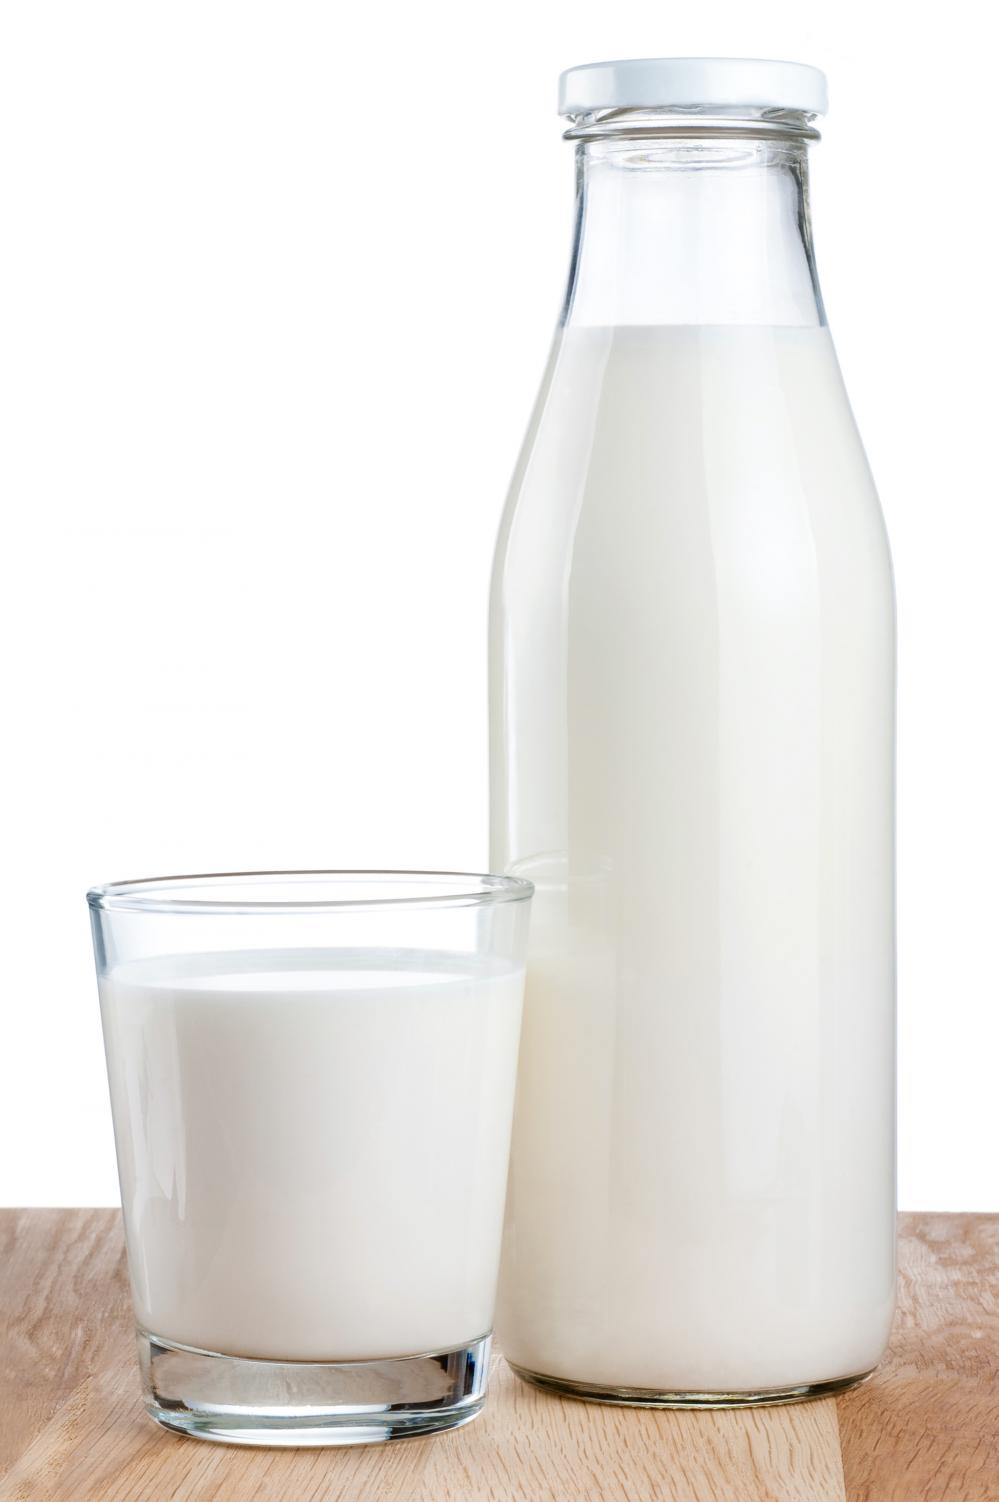glass of milk: (492, 304, 899, 1406), (83, 873, 524, 1448)
